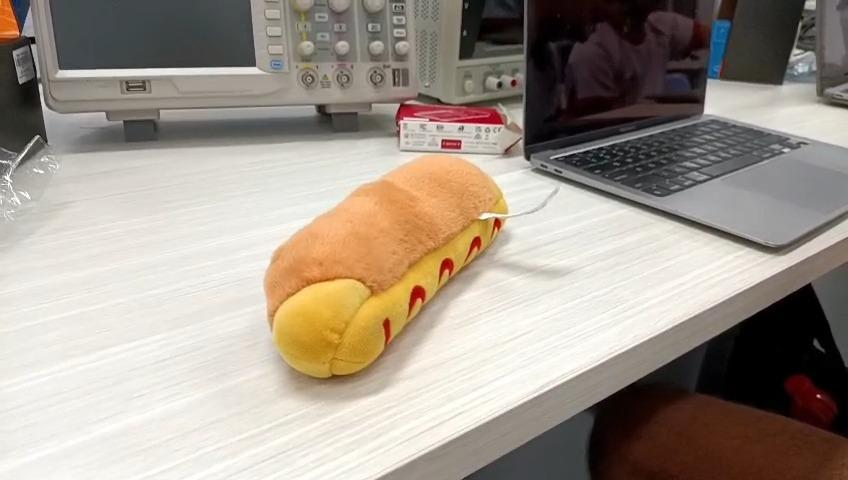hotdog: (265, 153, 510, 378)
